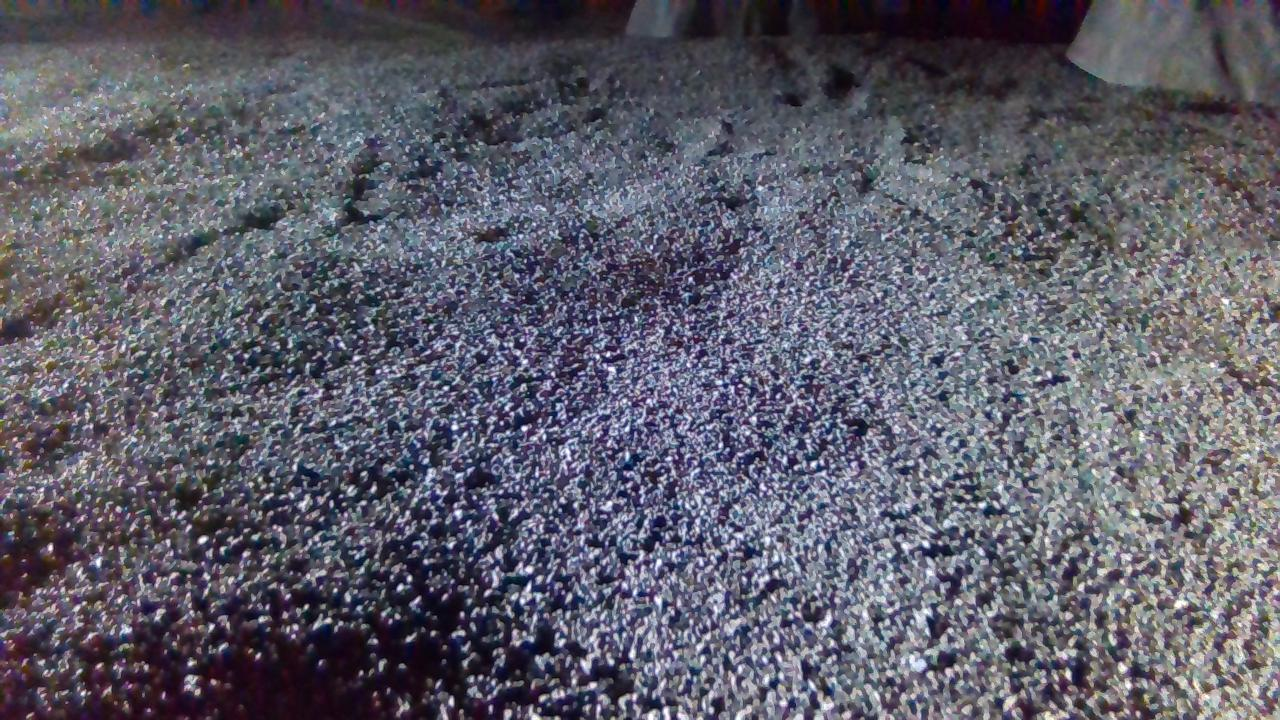rock: (1069, 0, 1280, 103), (625, 0, 888, 39)
